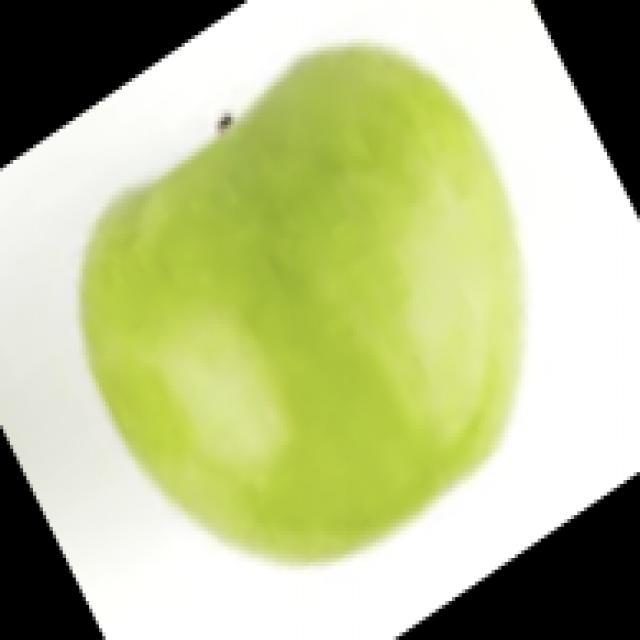Fresh Apple: (85, 55, 528, 542)
